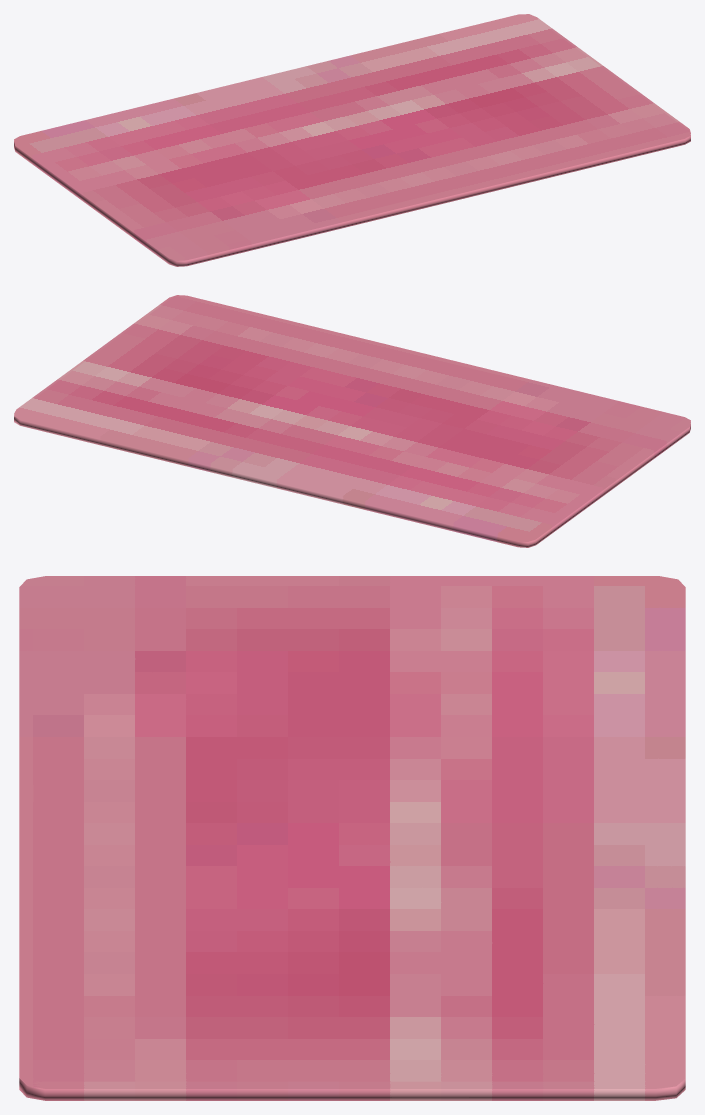
File: a_com_house_a01_mat01_square_wave.gltf
3 renders of one model, top to bottom at view 1: azimuth 30°, elevation 25°; view 2: azimuth 150°, elevation 25°; view 3: azimuth 270°, elevation 25°, orthographic. The views are drawn at different scales.
Visible parts, largest first — view 1: um_a_com_house_a01_mat01_model_a_com_house_a01_mat01_modelSh (×5); view 2: um_a_com_house_a01_mat01_model_a_com_house_a01_mat01_modelSh (×5); view 3: um_a_com_house_a01_mat01_model_a_com_house_a01_mat01_modelSh (×5).
Boxes of the visible parts, x1,y1,x2,y2 form: um_a_com_house_a01_mat01_model_a_com_house_a01_mat01_modelSh (×5): (14, 14, 690, 266); um_a_com_house_a01_mat01_model_a_com_house_a01_mat01_modelSh (×5): (14, 295, 690, 547); um_a_com_house_a01_mat01_model_a_com_house_a01_mat01_modelSh (×5): (19, 576, 685, 1100).
Bounding box in the file's own units: 2.05 × 0.0314 × 1.13.
5 materials, 5 textured.
